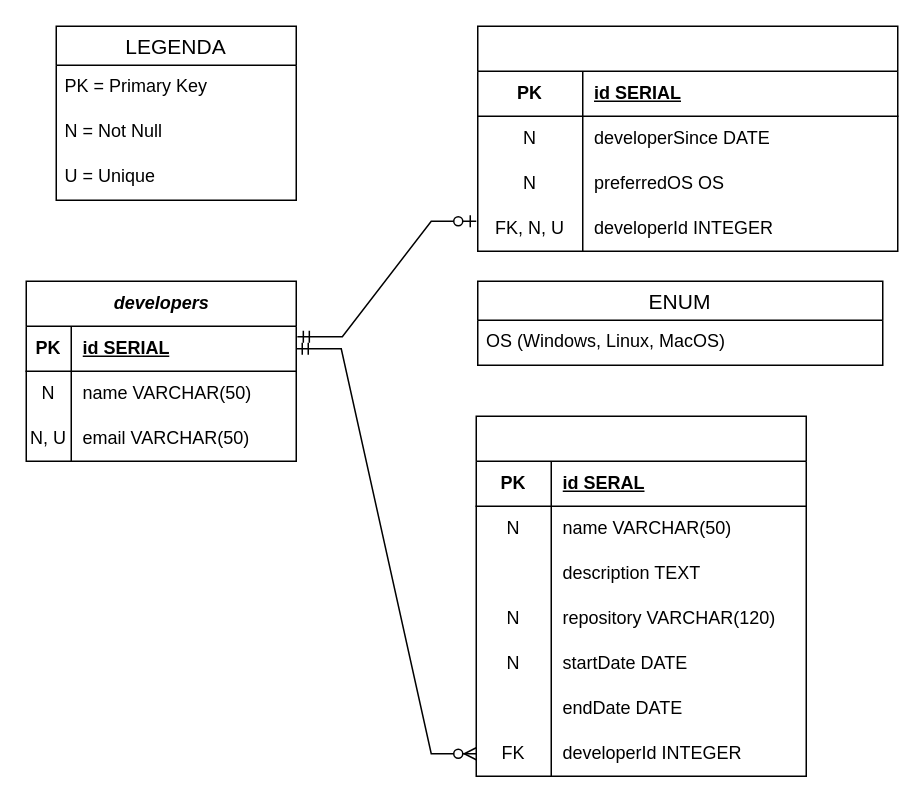
The diagram is 924 pixels wide and 803 high, and some of its shapes have lost their labels. The box of each missing label's shape, as (x1, y1, x2, y2) in pixels:
developerInfos: (476, 25, 898, 251)
projects: (475, 415, 806, 776)
